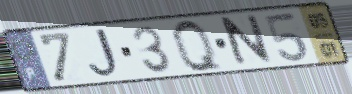3: (132, 23, 171, 75)
5: (262, 10, 312, 64)
7: (35, 32, 76, 85)
J: (87, 26, 127, 81)
N: (221, 12, 276, 71)
Q: (169, 17, 227, 75)
